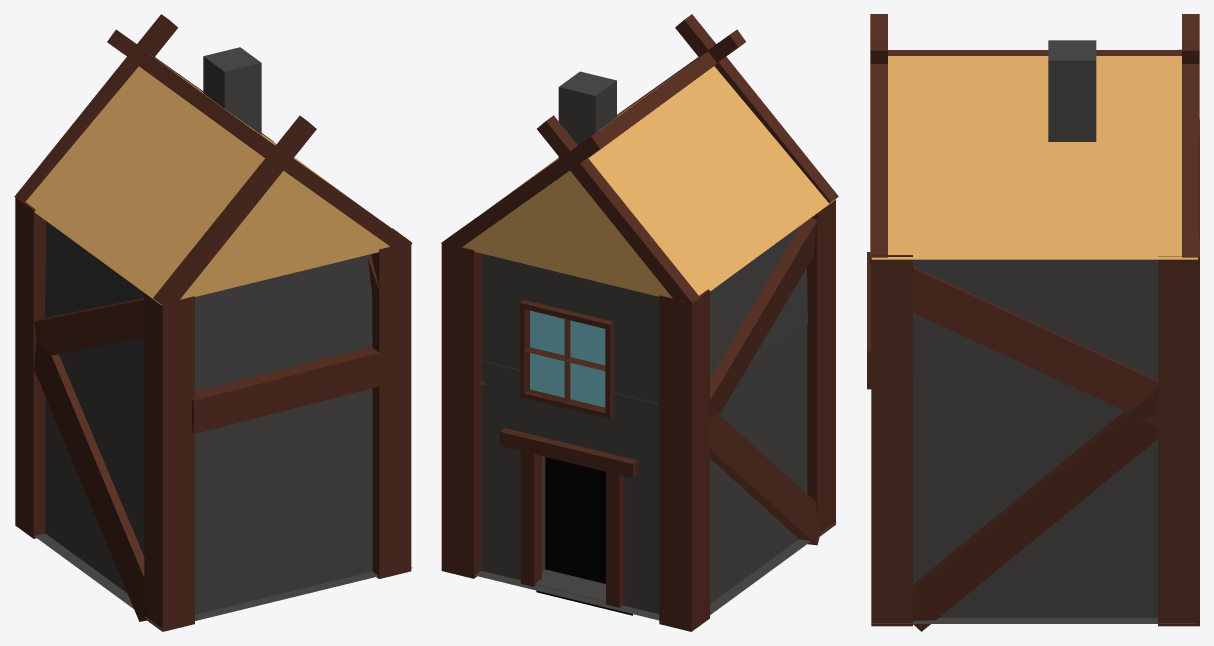
File: HouseLvl2.fbx
3 renders of one model, left to right at view 1: azimuth 30°, elevation 25°; view 2: azimuth 150°, elevation 25°; view 3: azimuth 270°, elevation 25°, orthographic. The views are drawn at different scales.
Parts seen in each view (by area): view 1: Cube.033; view 2: Cube.033; view 3: Cube.033.
Boxes of the visible parts, x1,y1,x2,y2 form: Cube.033: (14,14,412,631); Cube.033: (441,14,838,631); Cube.033: (867,14,1199,631).
Size of the model in its own units: 130 by 244 by 132.
